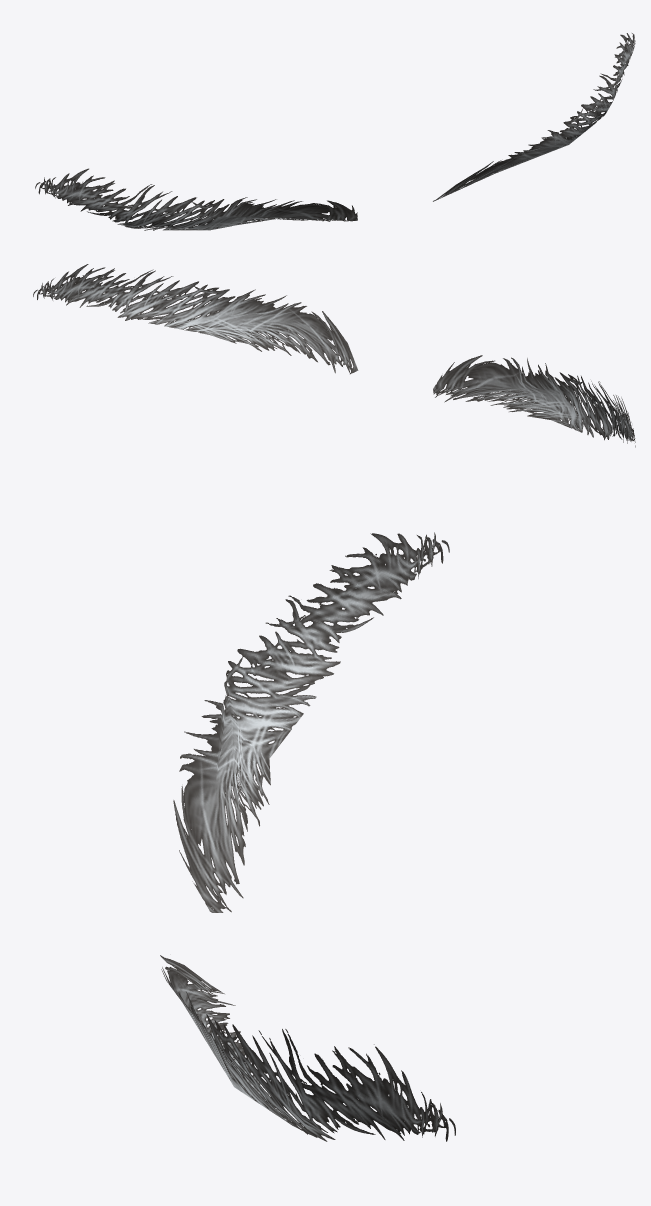
File: eyebrow.fbx
3 views of the same model, one above another, from view 1: azimuth 30°, elevation 25°; view 2: azimuth 150°, elevation 25°; view 3: azimuth 270°, elevation 25° (orthographic). The views are drawn at different scales.
Visible parts, largest first — view 1: eye_brow; view 2: eye_brow; view 3: eye_brow.
Boxes of the visible parts, x1,y1,x2,y2 form: eye_brow: (35,33,635,230); eye_brow: (33,264,635,447); eye_brow: (160,532,455,1141).
Bounding box in the file's own units: 10.79 × 1.58 × 2.52.
Materials: 1 (1 with a texture image).
